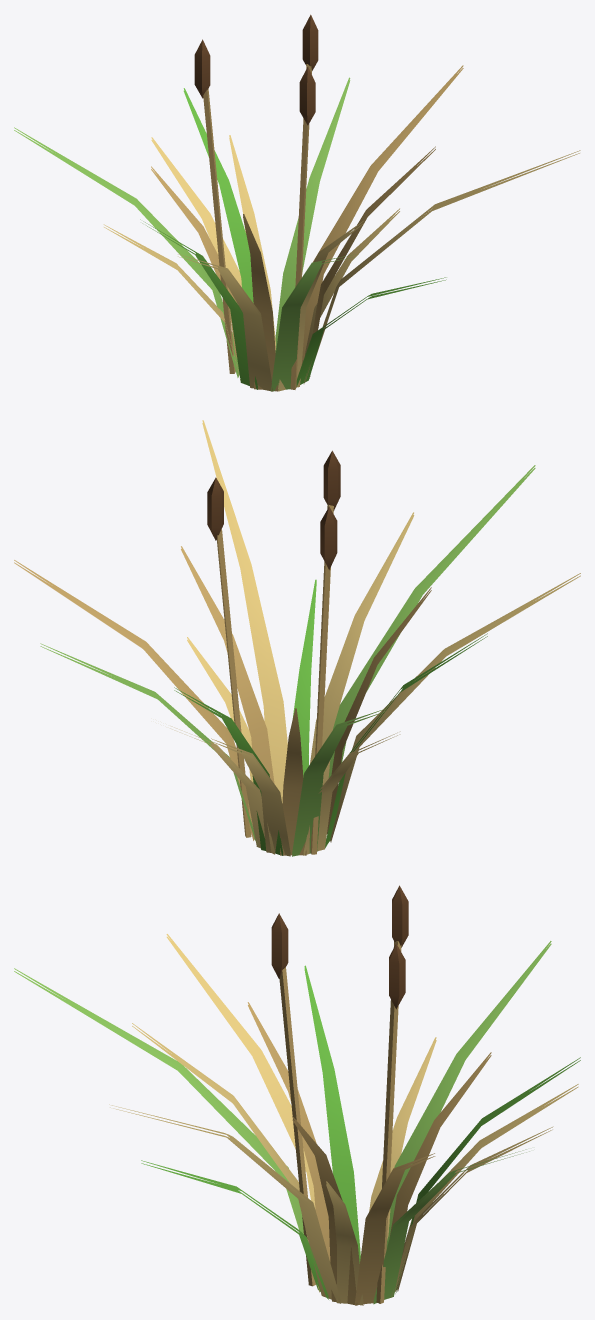
The model's file is HierbaPlaya.fbx.
3 renders of one model, top to bottom at view 1: azimuth 30°, elevation 25°; view 2: azimuth 150°, elevation 25°; view 3: azimuth 270°, elevation 25°, orthographic. The views are drawn at different scales.
Parts seen in each view (by area): view 1: HierbaPlaya; view 2: HierbaPlaya; view 3: HierbaPlaya.
Boxes of the visible parts, x1,y1,x2,y2 form: HierbaPlaya: (14, 14, 580, 391); HierbaPlaya: (14, 420, 580, 856); HierbaPlaya: (14, 885, 580, 1305).
Bounding box in the file's own units: 3.43 × 2.71 × 3.72.
1 material, 1 textured.
